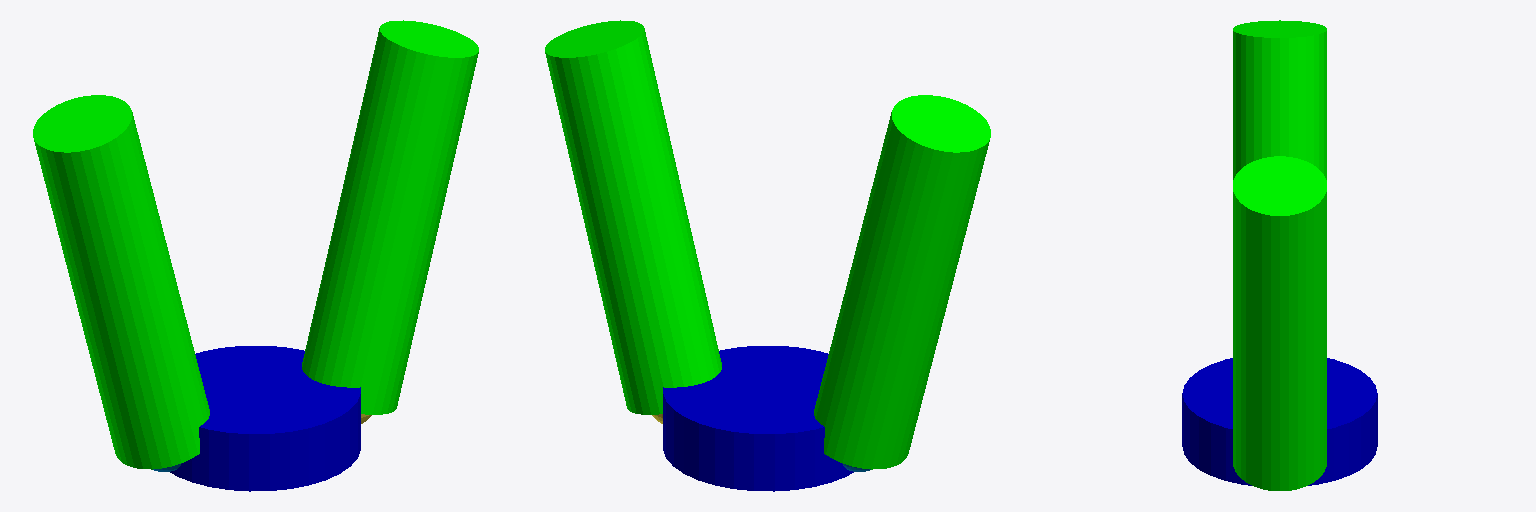
URDF robot description (gripper_2f_1j):
<?xml version='1.0' encoding='UTF-8'?>
<robot name="gripper_2f_1j">
  <link name="palm">
    <inertial>
      <origin xyz="0.0 0.0 0.0" rpy="0.0 -0.0 0.0"/>
      <mass value="1.0"/>
      <inertia ixx="1.0" ixy="0.0" ixz="0.0" iyy="1.0" iyz="0.0" izz="1.0"/>
    </inertial>
    <visual>
      <geometry>
        <cylinder radius="0.05" length="0.03"/>
      </geometry>
      <material name="blue"/>
      <origin xyz="0.0 0.0 0.0" rpy="0.0 -0.0 0.0"/>
    </visual>
    <collision>
      <geometry>
        <cylinder radius="0.05" length="0.03"/>
      </geometry>
      <origin xyz="0.0 0.0 0.0" rpy="0.0 0.0 0.0"/>
    </collision>
  </link>
  <link name="f11">
    <inertial>
      <origin xyz="0.0 0.0 0.0" rpy="0.0 -0.0 0.0"/>
      <mass value="1.0"/>
      <inertia ixx="1.0" ixy="0.0" ixz="0.0" iyy="1.0" iyz="0.0" izz="1.0"/>
    </inertial>
    <visual>
      <geometry>
        <cylinder radius="0.02430445073858117" length="0.18230065709333138"/>
      </geometry>
      <material name="green"/>
      <origin xyz="0.0 0.0 0.09115032854666569" rpy="0.0 -0.0 0.0"/>
    </visual>
    <collision>
      <geometry>
        <cylinder radius="0.02430445073858117" length="0.18230065709333138"/>
      </geometry>
      <origin xyz="0.0 0.0 0.05" rpy="0.0 0.0 0.0"/>
    </collision>
  </link>
  <link name="f21">
    <inertial>
      <origin xyz="0.0 0.0 0.0" rpy="0.0 -0.0 0.0"/>
      <mass value="1.0"/>
      <inertia ixx="1.0" ixy="0.0" ixz="0.0" iyy="1.0" iyz="0.0" izz="1.0"/>
    </inertial>
    <visual>
      <geometry>
        <cylinder radius="0.02430445073858117" length="0.18230065709333138"/>
      </geometry>
      <material name="green"/>
      <origin xyz="0.0 0.0 0.09115032854666569" rpy="0.0 -0.0 0.0"/>
    </visual>
    <collision>
      <geometry>
        <cylinder radius="0.02430445073858117" length="0.18230065709333138"/>
      </geometry>
      <origin xyz="0.0 0.0 0.05" rpy="0.0 0.0 0.0"/>
    </collision>
  </link>
  <link name="f11_base">
    <inertial>
      <origin xyz="0.0 0.0 0.0" rpy="0.0 -0.0 0.0"/>
      <mass value="1.0"/>
      <inertia ixx="1.0" ixy="0.0" ixz="0.0" iyy="1.0" iyz="0.0" izz="1.0"/>
    </inertial>
    <visual>
      <geometry>
        <sphere radius="0.015"/>
      </geometry>
      <origin xyz="0.0 0.0 0.0" rpy="0.0 -0.0 0.0"/>
    </visual>
  </link>
  <link name="f21_base">
    <inertial>
      <origin xyz="0.0 0.0 0.0" rpy="0.0 -0.0 0.0"/>
      <mass value="1.0"/>
      <inertia ixx="1.0" ixy="0.0" ixz="0.0" iyy="1.0" iyz="0.0" izz="1.0"/>
    </inertial>
    <visual>
      <geometry>
        <sphere radius="0.015"/>
      </geometry>
      <origin xyz="0.0 0.0 0.0" rpy="0.0 -0.0 0.0"/>
    </visual>
  </link>
  <joint name="f11_joint" type="revolute">
    <dynamics damping="100.0" friction="1.0"/>
    <limit effort="30.0" velocity="2.0" lower="-0.6" upper="0.25"/>
    <parent link="f11_base"/>
    <child link="f11"/>
    <axis xyz="0. 1. 0."/>
    <origin xyz="0.0 0.0 0.0" rpy="0.0 0.25 0.0"/>
  </joint>
  <joint name="f21_joint" type="revolute">
    <dynamics damping="100.0" friction="1.0"/>
    <limit effort="30.0" velocity="2.0" lower="-0.6" upper="0.25"/>
    <parent link="f21_base"/>
    <child link="f21"/>
    <axis xyz=" 0. -1.  0."/>
    <origin xyz="0.0 0.0 0.0" rpy="0.0 -0.25 0.0"/>
  </joint>
  <joint name="f11_base_joint" type="fixed">
    <parent link="palm"/>
    <child link="f11_base"/>
    <axis xyz="1. 0. 0."/>
    <origin xyz="0.05 0.0 0.0" rpy="0.0 0.0 0.0"/>
  </joint>
  <joint name="f21_base_joint" type="fixed">
    <parent link="palm"/>
    <child link="f21_base"/>
    <axis xyz="1. 0. 0."/>
    <origin xyz="-0.05 -0.0 0.0" rpy="0.0 0.0 0.0"/>
  </joint>
  <material name="blue">
    <color rgba="0.  0.  0.8 1. "/>
  </material>
  <material name="green">
    <color rgba="0. 1. 0. 1."/>
  </material>
</robot>

--- What the picture shows (computed from the rendered views, not written in the file) ---
3 views of the same robot in one strip: view 1: azimuth 30°, elevation 25°; view 2: azimuth 150°, elevation 25°; view 3: azimuth 270°, elevation 25° (orthographic).
Model gripper_2f_1j with 5 links and 4 joints (2 revolute, 2 fixed), rooted at palm, posed every joint at zero.
Links seen in each view (by area): view 1: f11, f21, palm; view 2: f11, f21, palm; view 3: f11, f21, palm.
Boxes of the visible links, x1=… form: f11: x1=302, y1=20, x2=478, y2=414; f21: x1=33, y1=95, x2=209, y2=469; palm: x1=170, y1=346, x2=360, y2=491; f11: x1=545, y1=20, x2=721, y2=414; f21: x1=814, y1=95, x2=990, y2=469; palm: x1=663, y1=346, x2=853, y2=491; f11: x1=1233, y1=156, x2=1326, y2=490; f21: x1=1233, y1=20, x2=1326, y2=179; palm: x1=1182, y1=358, x2=1377, y2=485.
Size in the robot's own frame: 0.2373 by 0.1 by 0.1976 metres.
Geometry: primitives only (box / cylinder / sphere), no mesh files.